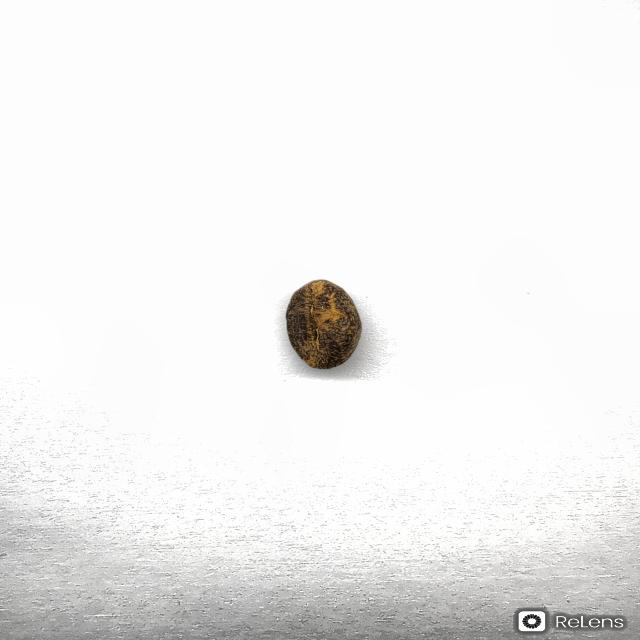Black: (284, 278, 363, 370)
